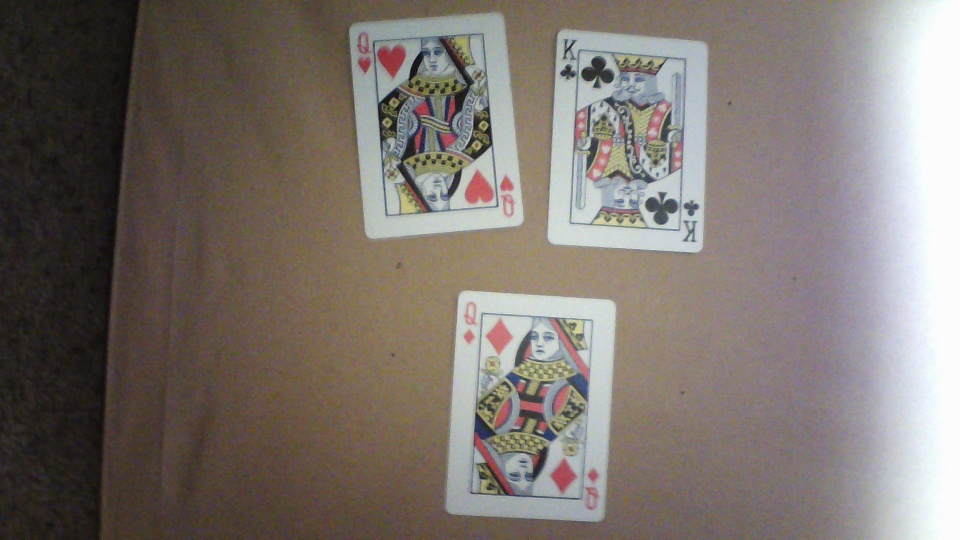king: (545, 27, 710, 255)
queen: (443, 289, 617, 523), (347, 13, 525, 239)
